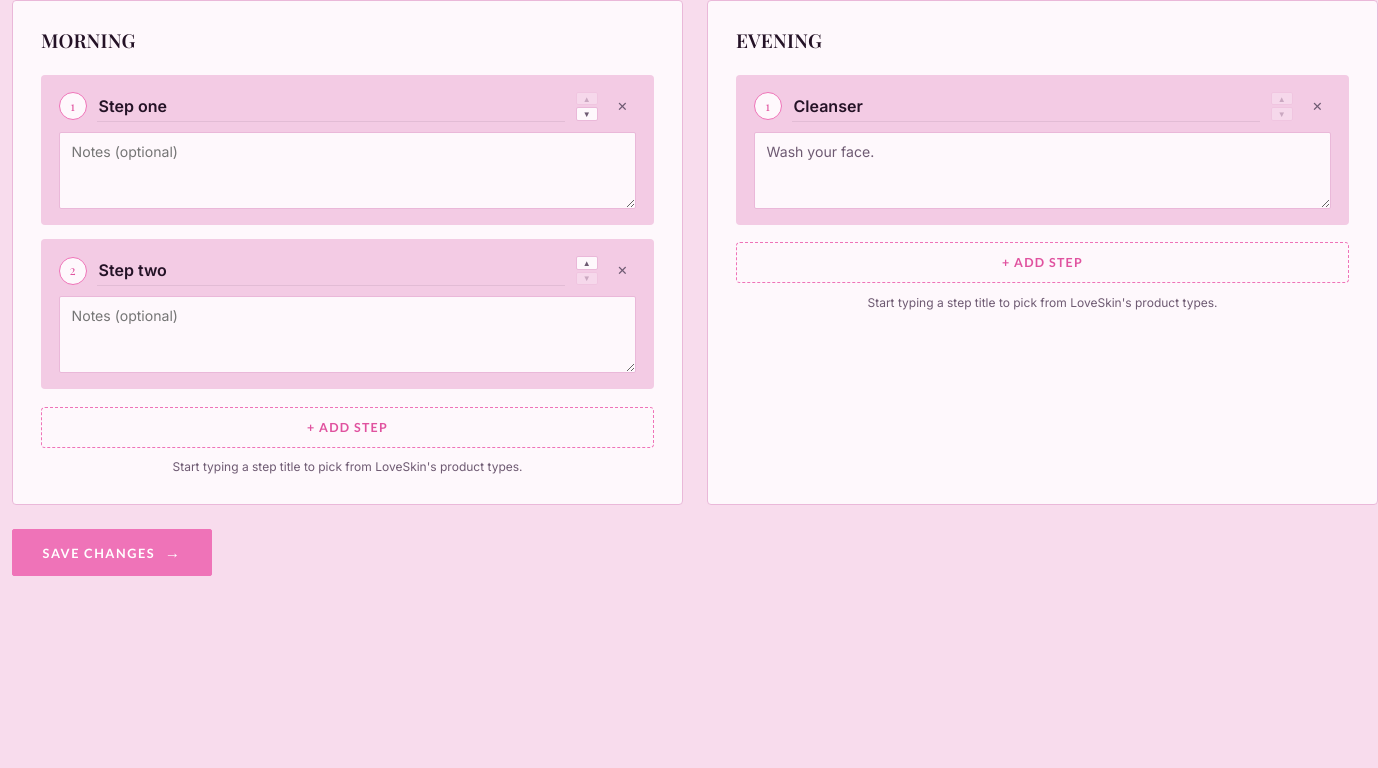
Test case: RoutineEditor › removes a step when its remove button is clicked
The image size is (1378, 768).
Step 1. Click the button named "Remove morning step 1" → (622, 106), box x1=608 y1=92 x2=636 y2=120
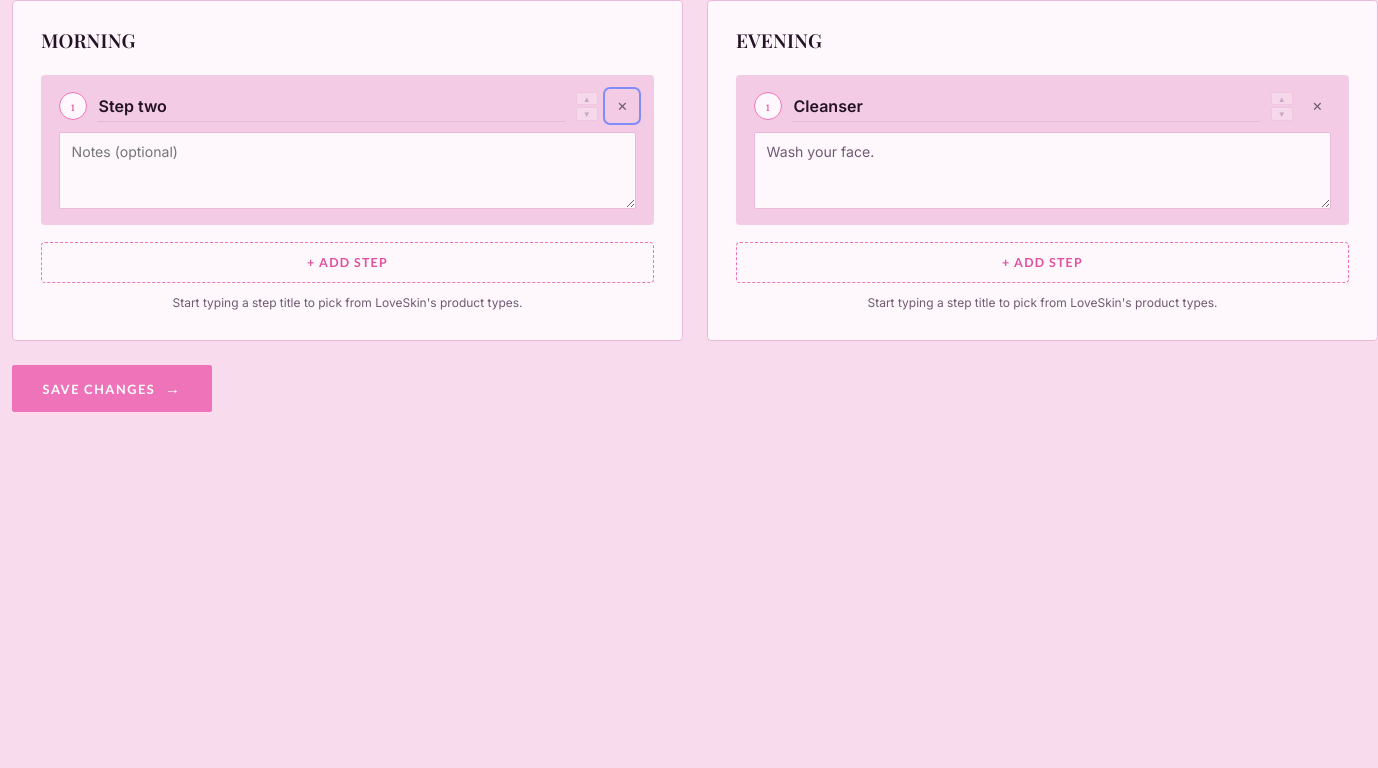
Check: the field showing "Step one" is not shown
Check: the field named "Morning step 1 title" holds "Step two", box x1=97 y1=91 x2=565 y2=122
